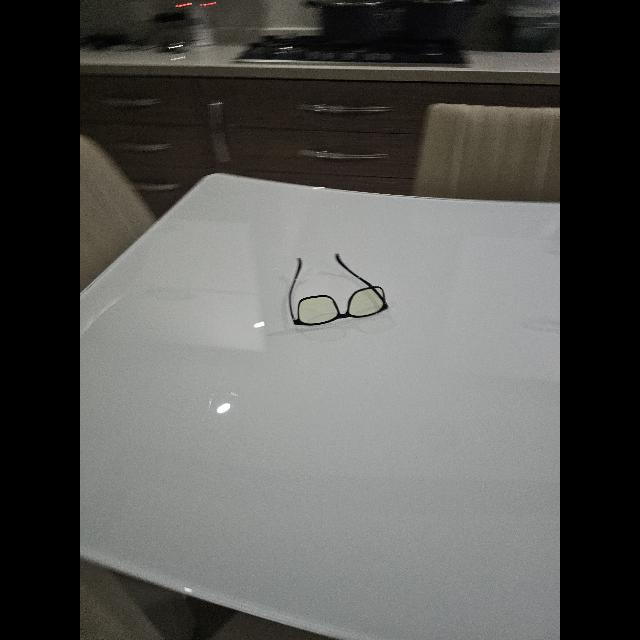glasses: (288, 254, 388, 326)
